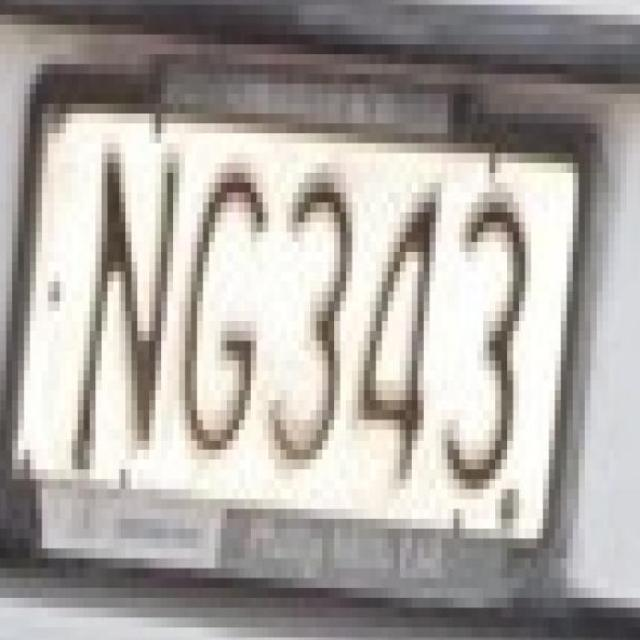license-plate: (7, 74, 591, 640)
